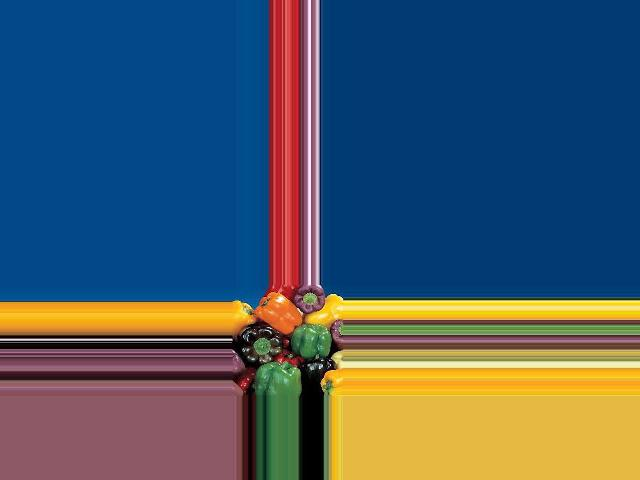bell_pepper: (252, 365, 300, 397)
